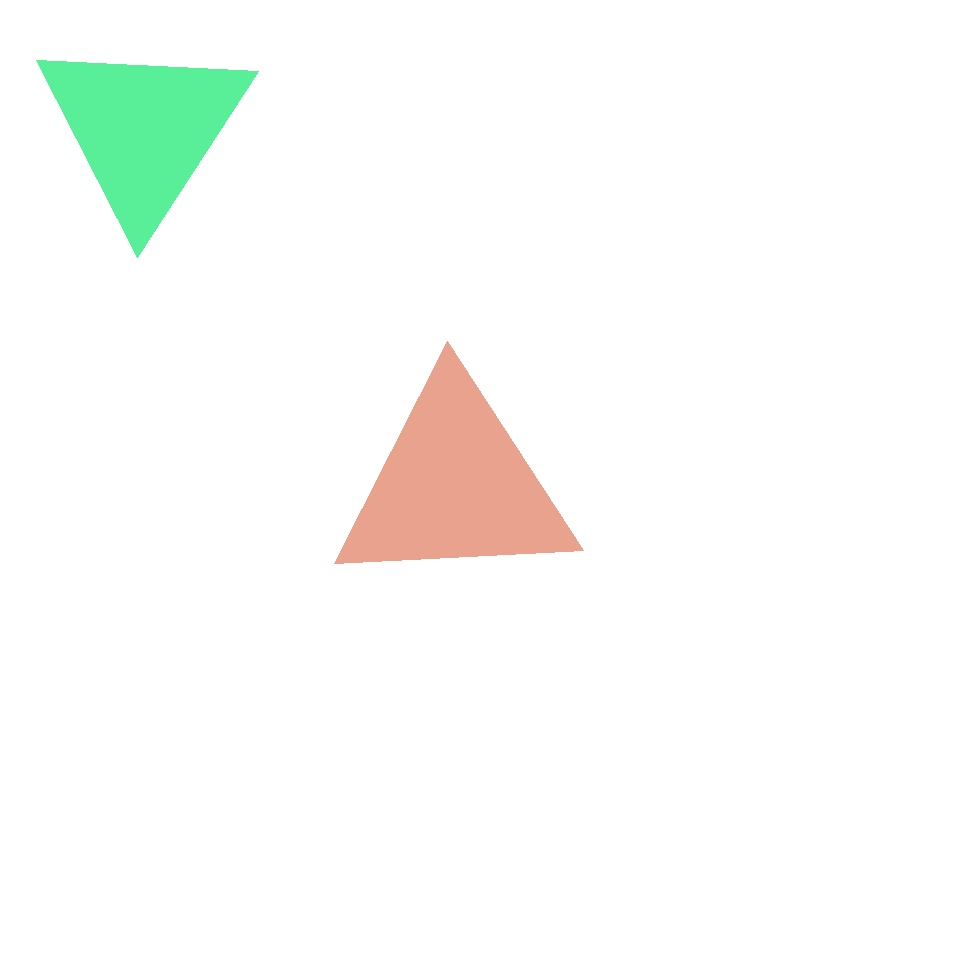circle: (330, 374, 580, 596), (33, 31, 255, 228)
square: (266, 540, 598, 873), (610, 618, 872, 880), (554, 306, 747, 499), (290, 165, 416, 290), (112, 87, 202, 178)
triangle: (360, 300, 680, 622)
